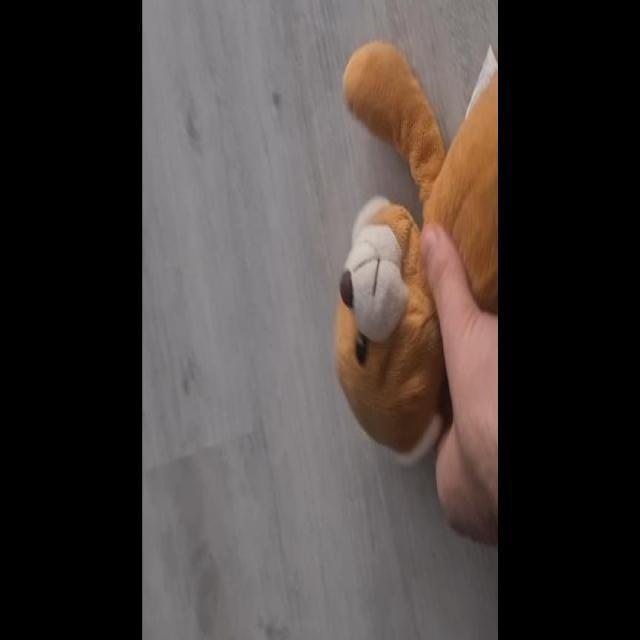soft-toy: (345, 45, 499, 313), (337, 199, 446, 457)
